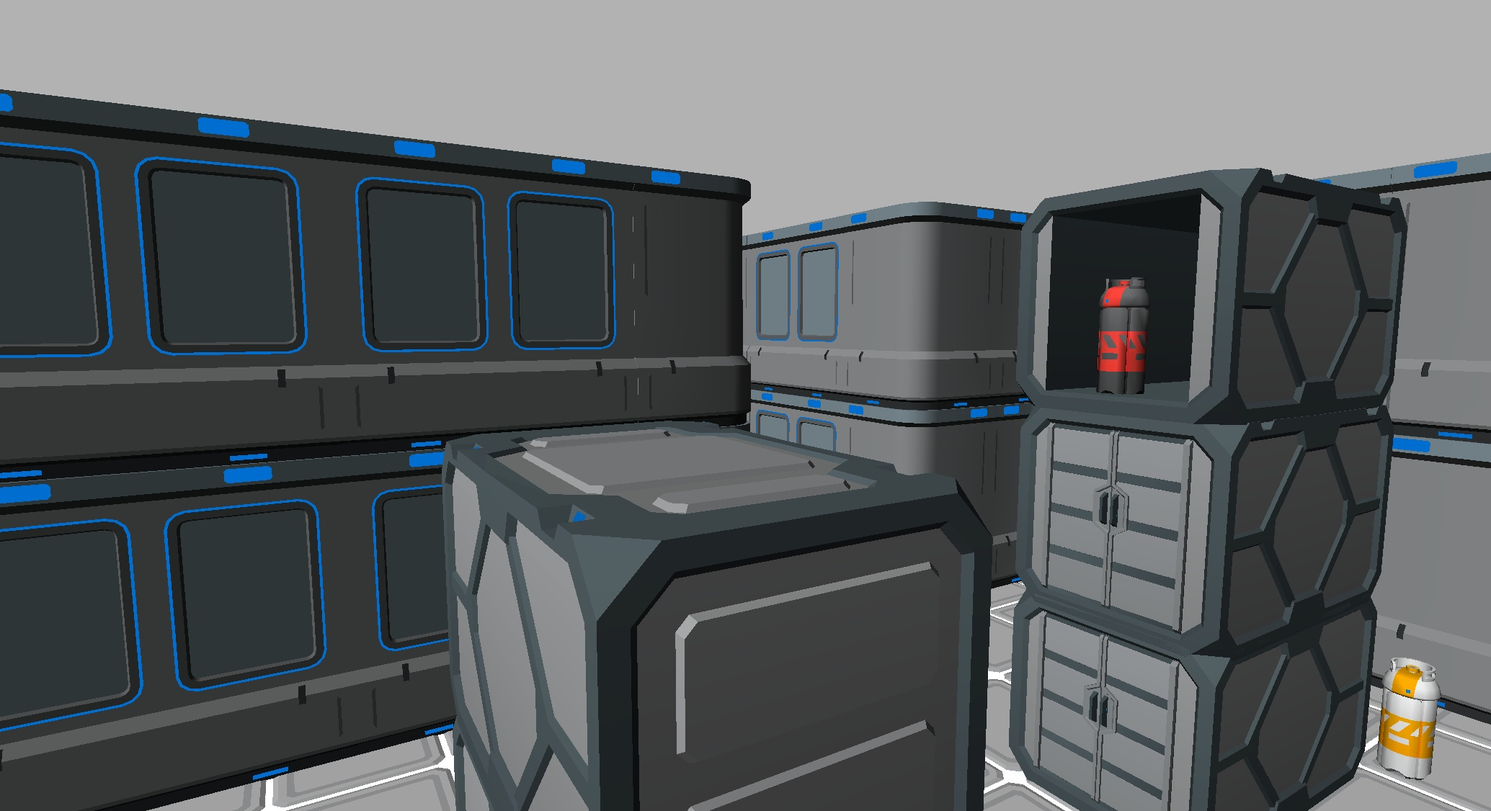red_barrel: (1098, 277, 1149, 393)
yellow_barrel: (1379, 657, 1440, 779)
